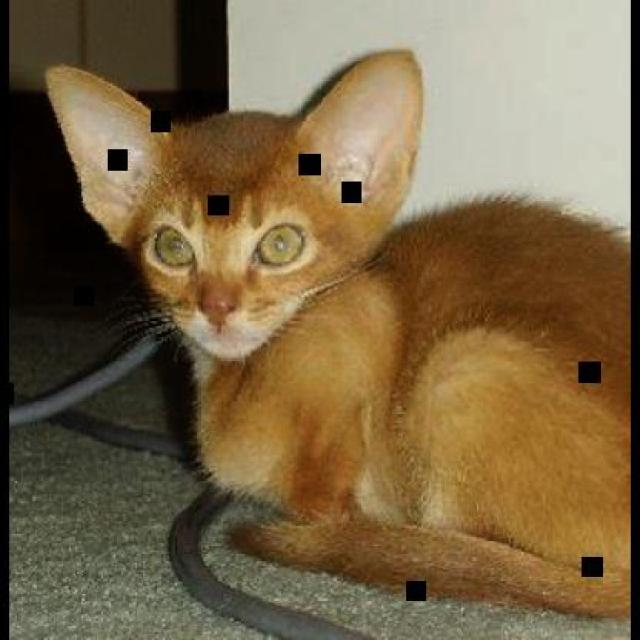unauthorized: (43, 48, 631, 620)
